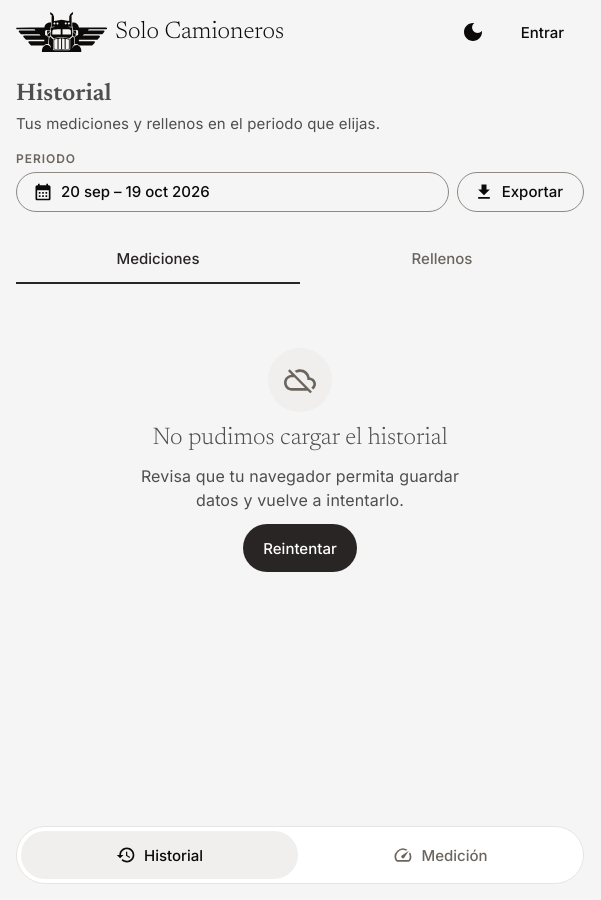
Test: a failed load explains it and can be retried
Click the button "Reintentar" at {"x": 300, "y": 548}, box 243,524 -> 357,572
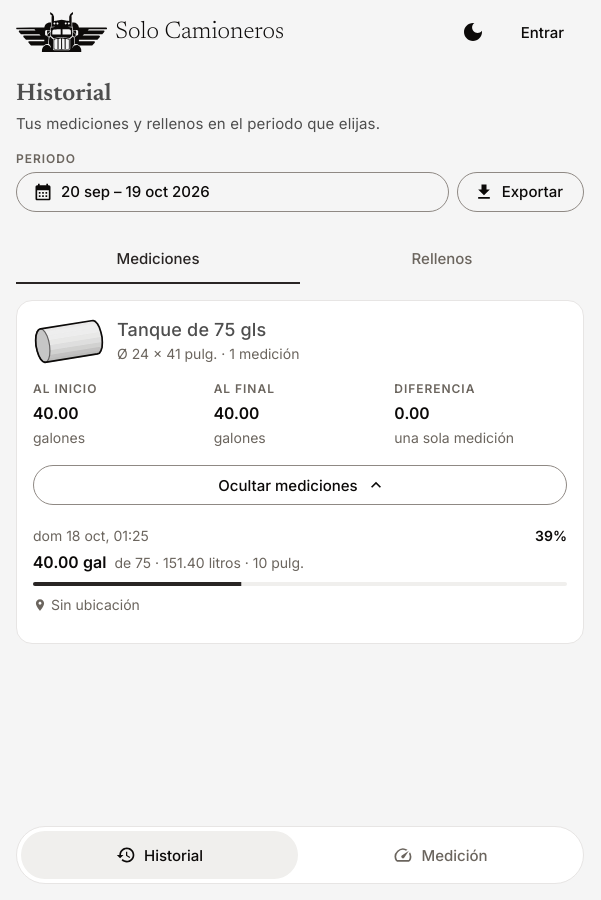
Check: the heading "Tanque de 75 gls" is shown, box 117,319 -> 266,340
